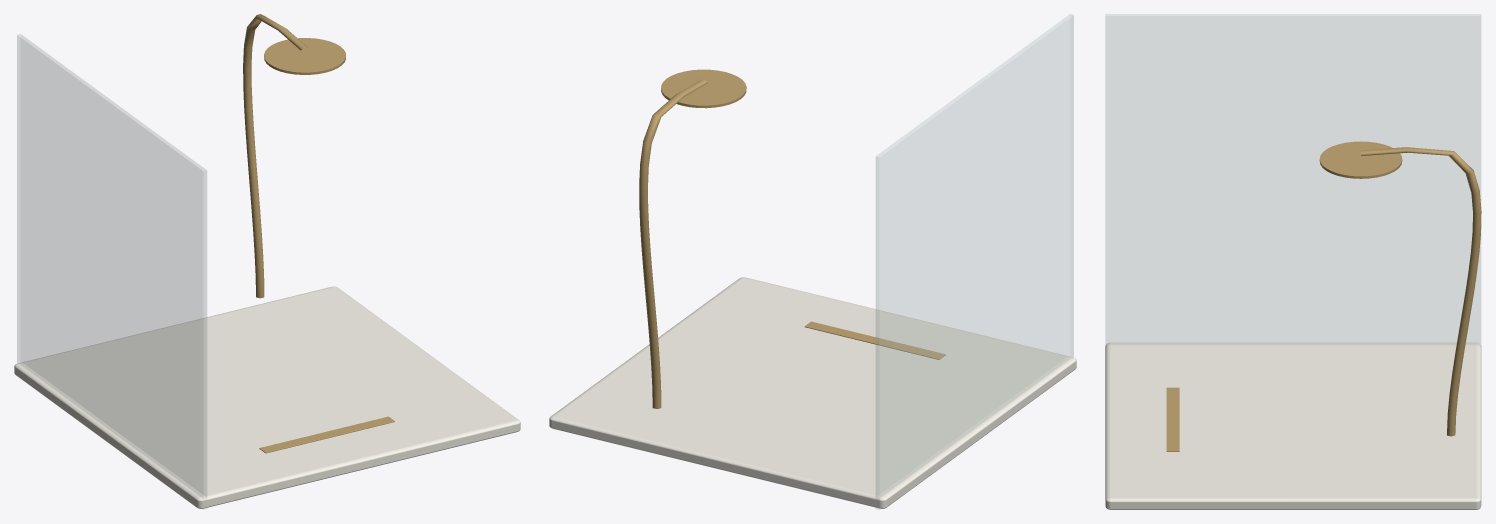
File: shower-11-0.glb
3 views of the same model, side by side, from view 1: azimuth 30°, elevation 25°; view 2: azimuth 150°, elevation 25°; view 3: azimuth 270°, elevation 25° (orthographic). The views are drawn at different scales.
Visible parts, largest first — view 1: upholstery (×2), part; view 2: upholstery (×2), part; view 3: upholstery (×2), part.
Boxes of the visible parts, x1,y1,x2,y2 form: upholstery (×2): [14, 34, 520, 509]; part: [243, 14, 394, 453]; upholstery (×2): [549, 14, 1076, 509]; part: [639, 69, 945, 408]; upholstery (×2): [1105, 14, 1481, 509]; part: [1166, 141, 1481, 451].
Bounding box in the file's own units: 1 × 1 × 1.
